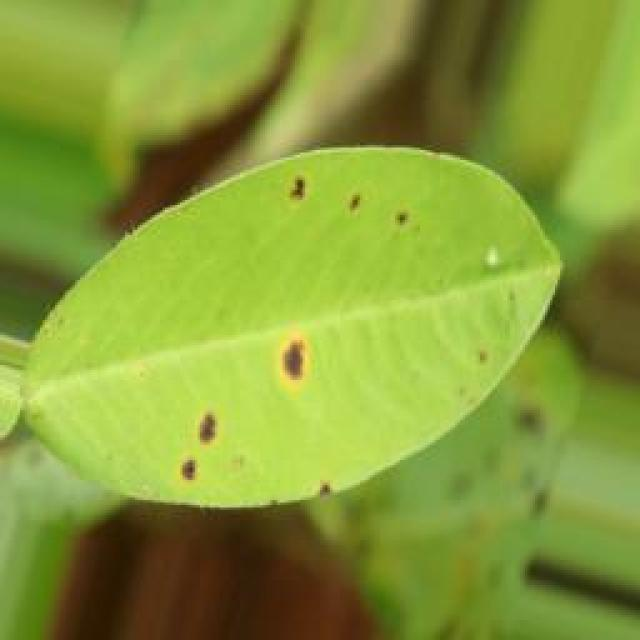Sigatoka: (275, 168, 417, 258), (125, 395, 241, 504), (260, 320, 352, 410), (264, 442, 363, 522), (454, 356, 516, 407)
